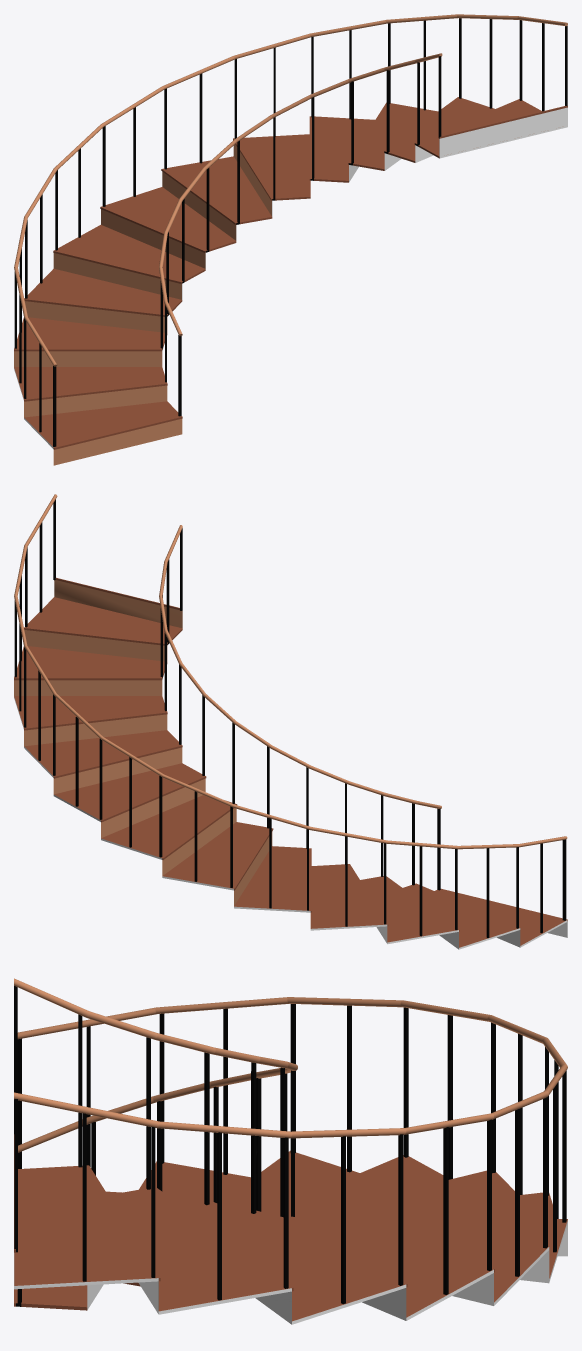
Rendered from stairs_180_circular_notopstep_rail.obj.
The picture shows the model from 3 angles, top to bottom: view 1: azimuth 30°, elevation 25°; view 2: azimuth 150°, elevation 25°; view 3: azimuth 270°, elevation 25°; orthographic projection. The views are drawn at different scales.
Visible parts, largest first — view 1: 73_73, 87_87, 70_70.001, 69_69.001, 70_70, 101_101, 69_69; view 2: 73_73, 87_87, 70_70.001, 69_69.001, 70_70, 101_101, 69_69; view 3: 73_73, 70_70.001, 69_69.001, 70_70, 69_69, 87_87.
Boxes of the visible parts, <box> form: 73_73: <box>14,97,567,448</box>; 87_87: <box>14,107,567,465</box>; 70_70.001: <box>14,18,567,446</box>; 69_69.001: <box>14,14,567,366</box>; 70_70: <box>160,56,441,416</box>; 101_101: <box>14,105,567,449</box>; 69_69: <box>159,53,442,336</box>; 73_73: <box>14,597,567,949</box>; 87_87: <box>14,580,567,947</box>; 70_70.001: <box>14,499,566,937</box>; 69_69.001: <box>14,494,567,849</box>; 70_70: <box>160,528,440,890</box>; 101_101: <box>14,577,567,931</box>; 69_69: <box>159,525,441,808</box>; 73_73: <box>14,1150,567,1324</box>; 70_70.001: <box>14,1004,566,1304</box>; 69_69.001: <box>14,997,567,1138</box>; 70_70: <box>14,986,294,1306</box>; 69_69: <box>14,978,297,1152</box>; 87_87: <box>14,1223,567,1321</box>.
Bounding box in the file's own units: 600 × 355 × 301.
